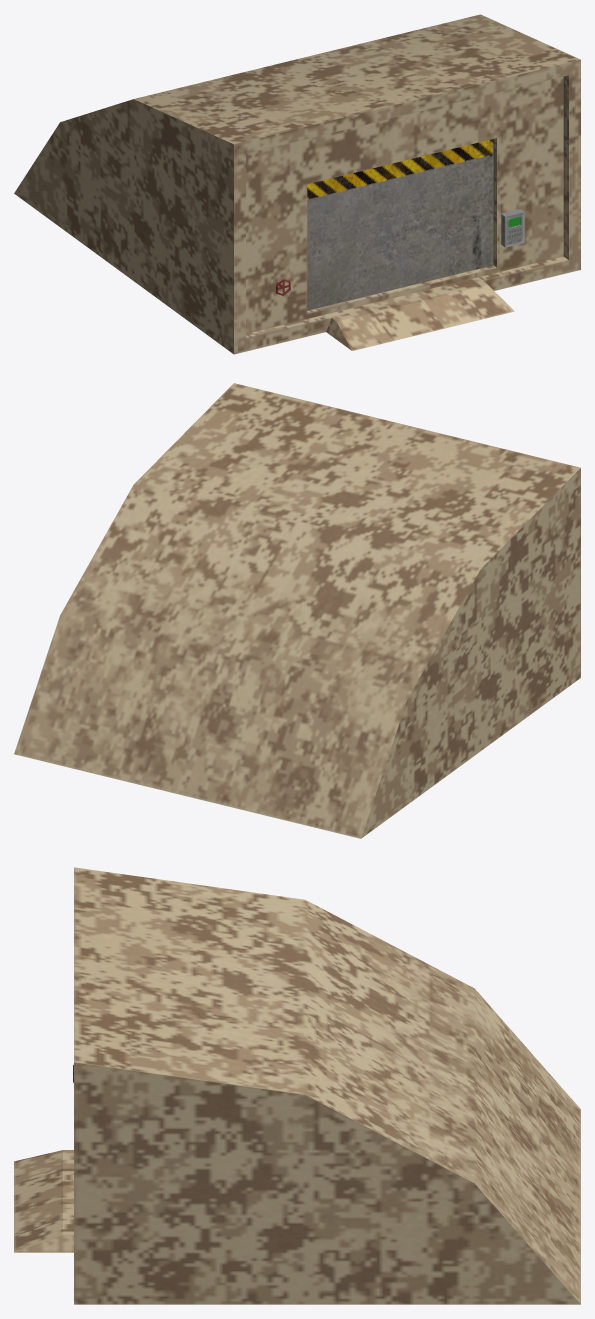
The model's file is bunker.glb.
The picture shows the model from 3 angles, top to bottom: view 1: azimuth 30°, elevation 25°; view 2: azimuth 150°, elevation 25°; view 3: azimuth 270°, elevation 25°; orthographic projection. The views are drawn at different scales.
Visible parts, largest first — view 1: Cylinder001; view 2: Cylinder001; view 3: Cylinder001.
Boxes of the visible parts, box(x1,y1,x2,y2) form: Cylinder001: box(14, 14, 580, 354); Cylinder001: box(14, 383, 580, 838); Cylinder001: box(14, 867, 580, 1304).
Size of the model in its own units: 2.63 by 1.52 by 3.23.
1 material, 1 textured.
